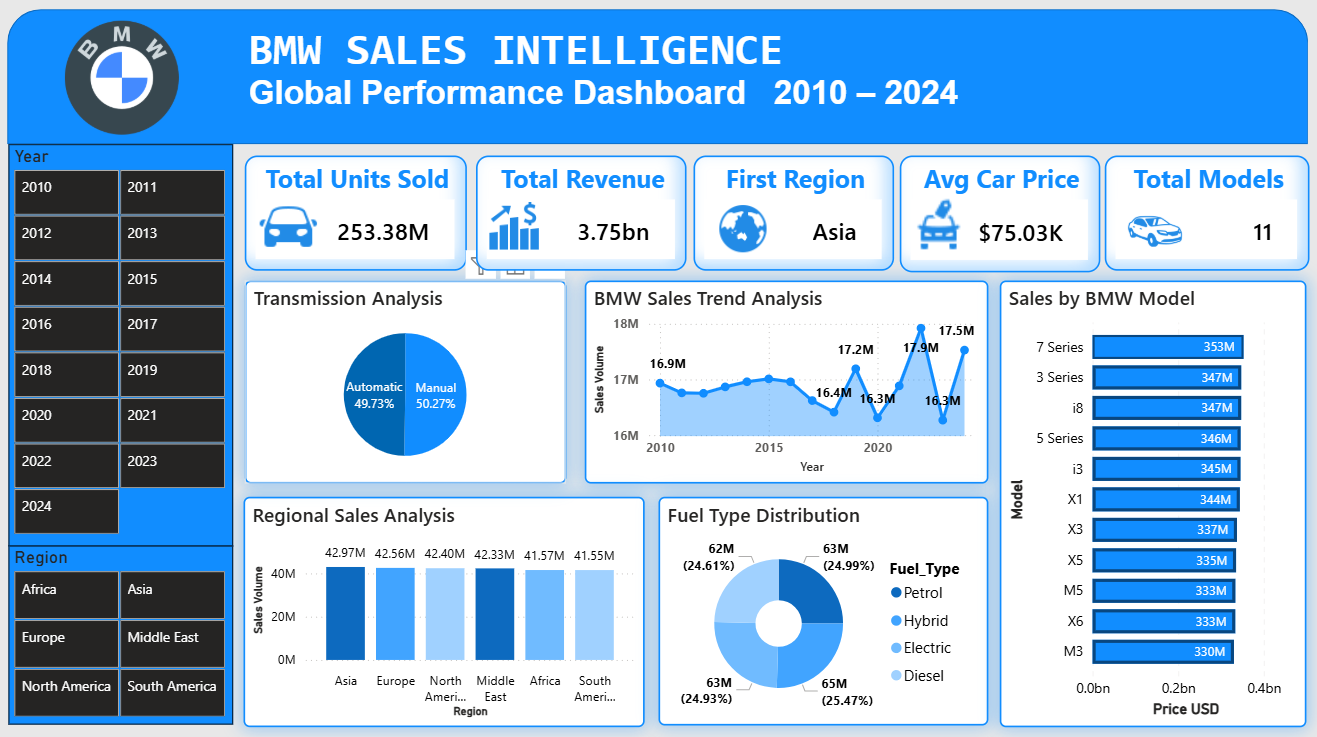

Layout of this report page (visuals, bound fields, positions):
{"tool":"powerbi","page":{"name":"Page 1","canvas":[1280,720],"ordinal":0},"visuals":[{"type":"cardVisual","title":"Total Units Sold","fields":{"Data":["Sum(BMW sales data (2010-2024) (1).Sales_Volume)"]},"box":[240.1,156.4,214.1,111.1],"z":0},{"type":"cardVisual","title":"First Region","fields":{"Data":["Min(BMW sales data (2010-2024) (1).Region)"]},"box":[673.8,156.4,193.5,111.1],"z":1000},{"type":"areaChart","title":"BMW Sales Trend Analysis","fields":{"Category":["BMW sales data (2010-2024) (1).Year"],"Y":["Sum(BMW sales data (2010-2024) (1).Sales_Volume)"]},"box":[568.1,277.2,389.7,196.2],"z":2000},{"type":"columnChart","title":"Regional Sales Analysis","fields":{"Category":["BMW sales data (2010-2024) (1).Region"],"Y":["Sum(BMW sales data (2010-2024) (1).Sales_Volume)"]},"box":[238.8,485.8,387,222.3],"z":3000},{"type":"donutChart","title":"Fuel Type Distribution","fields":{"Category":["BMW sales data (2010-2024) (1).Fuel_Type"],"Y":["Sum(BMW sales data (2010-2024) (1).Sales_Volume)"]},"box":[639.5,485.8,318.4,220.9],"z":4000},{"type":"pieChart","title":"Transmission Analysis","fields":{"Category":["BMW sales data (2010-2024) (1).Transmission"],"Y":["Sum(BMW sales data (2010-2024) (1).Sales_Volume)"]},"box":[240.1,277.2,310.1,196.2],"z":5000},{"type":"advancedSlicerVisual","fields":{"Values":["BMW sales data (2010-2024) (1).Region"]},"box":[12.3,533.8,216.8,172.9],"z":6000},{"type":"clusteredBarChart","title":"Sales by BMW Model","fields":{"Y":["Sum(BMW sales data (2010-2024) (1).Price_USD)"],"Category":["BMW sales data (2010-2024) (1).Model"]},"box":[968.8,277.2,296.4,430.9],"z":7000},{"type":"advancedSlicerVisual","fields":{"Values":["BMW sales data (2010-2024) (1).Year"]},"box":[12.3,145.5,216.8,388.3],"z":8000},{"type":"shape","box":[11,15.1,1255.6,130.4],"z":9000},{"type":"textbox","box":[238.8,24.7,1012.7,120.8],"z":10000},{"type":"cardVisual","title":"Total Revenue","fields":{"Data":["Sum(BMW sales data (2010-2024) (1).Price_USD)"]},"box":[463.8,156.4,203.1,111.1],"z":11000},{"type":"cardVisual","title":"Avg Car Price","fields":{"Data":["BMW sales data (2010-2024) (1).Avg Car Price"]},"box":[872.7,156.4,193.5,112.5],"z":12000},{"type":"cardVisual","title":"Total Models","fields":{"Data":["BMW sales data (2010-2024) (1).Total Models"]},"box":[1070.3,156.4,197.6,111.1],"z":13000},{"type":"image","box":[48,15.1,146.8,131.7],"z":14000},{"type":"image","box":[251.1,196.2,61.7,57.6],"z":15000},{"type":"image","box":[695.7,200.3,49.4,54.9],"z":16000},{"type":"image","box":[469.3,194.9,61.7,57.6],"z":17000},{"type":"image","box":[878.2,194.9,63.1,54.9],"z":18000},{"type":"image","box":[1068.9,200.3,100.1,54.3],"z":19000}]}

Visuals, with their boxes in screenshot pixels (x1, y1, x2, y2), scaled from the page's 1280x720 canvas onto the 1317x737 screenshot:
"Total Units Sold" cardVisual: <box>247,160,467,274</box>
"First Region" cardVisual: <box>693,160,892,274</box>
"BMW Sales Trend Analysis" areaChart: <box>585,284,985,485</box>
"Regional Sales Analysis" columnChart: <box>246,497,644,725</box>
"Fuel Type Distribution" donutChart: <box>658,497,986,723</box>
"Transmission Analysis" pieChart: <box>247,284,566,485</box>
advancedSlicerVisual - BMW sales data (2010-2024) (1).Region: <box>13,546,236,723</box>
"Sales by BMW Model" clusteredBarChart: <box>997,284,1302,725</box>
advancedSlicerVisual - BMW sales data (2010-2024) (1).Year: <box>13,149,236,546</box>
shape: <box>11,15,1303,149</box>
textbox: <box>246,25,1288,149</box>
"Total Revenue" cardVisual: <box>477,160,686,274</box>
"Avg Car Price" cardVisual: <box>898,160,1097,275</box>
"Total Models" cardVisual: <box>1101,160,1305,274</box>
image: <box>49,15,200,150</box>
image: <box>258,201,322,260</box>
image: <box>716,205,767,261</box>
image: <box>483,200,546,258</box>
image: <box>904,200,969,256</box>
image: <box>1100,205,1203,261</box>
